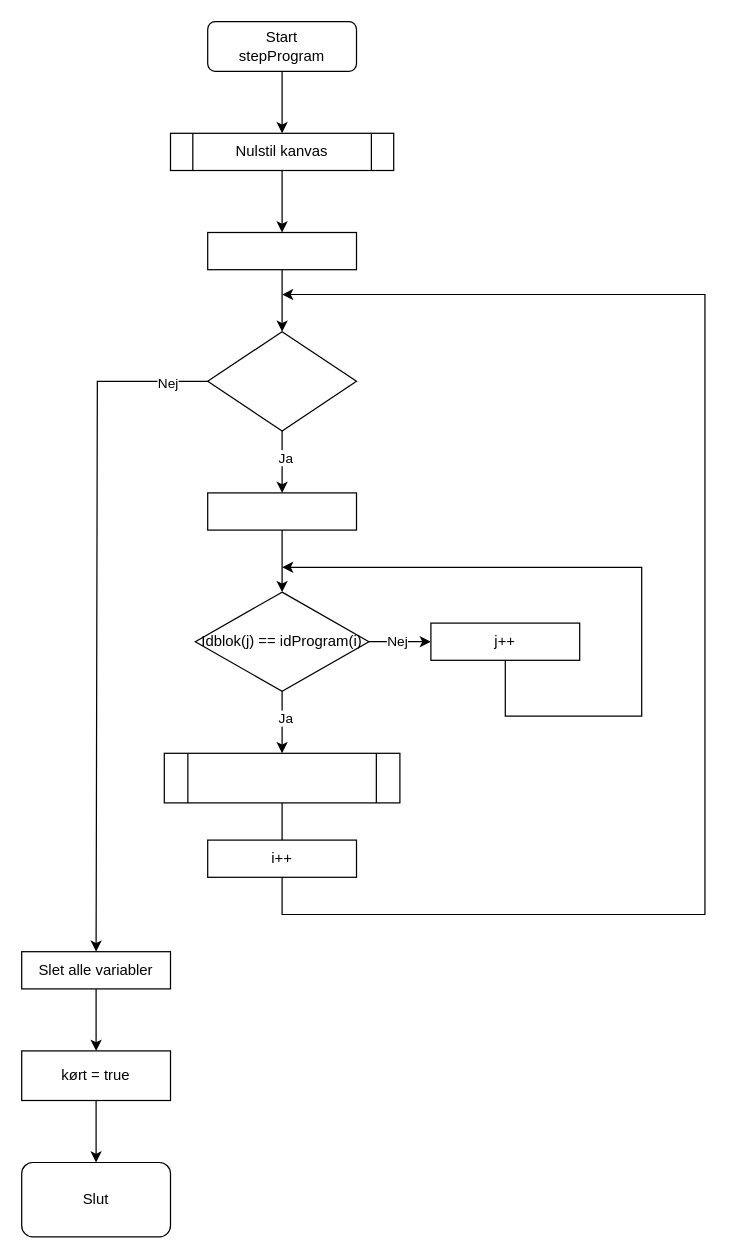
The diagram is 737 pixels wide and 1259 high, and some of its shapes have lost their labels. Each missing label, with the centre of its shape:
i <= step: the point at 281,380
i = 0: the point at 281,250
j = 0: the point at 281,511
kørFunktionen af den blok: the point at 281,777
